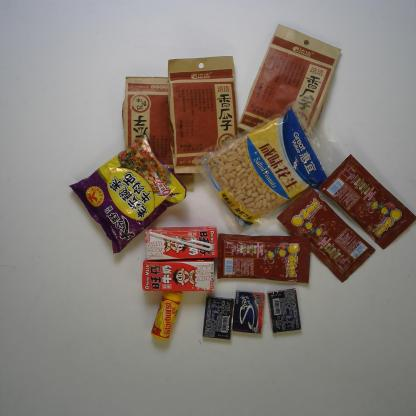Candy: (277, 186, 377, 283), (318, 152, 416, 250), (214, 232, 312, 284), (152, 290, 184, 341)
Dried Food: (236, 22, 343, 137), (121, 75, 196, 194), (166, 57, 238, 174)
Dried Fruit: (204, 108, 328, 231)
Gum: (266, 288, 302, 334), (232, 291, 266, 334), (202, 295, 234, 340)
Instant Noodles: (66, 132, 188, 253)
Milk: (143, 226, 219, 260), (141, 258, 216, 292)
